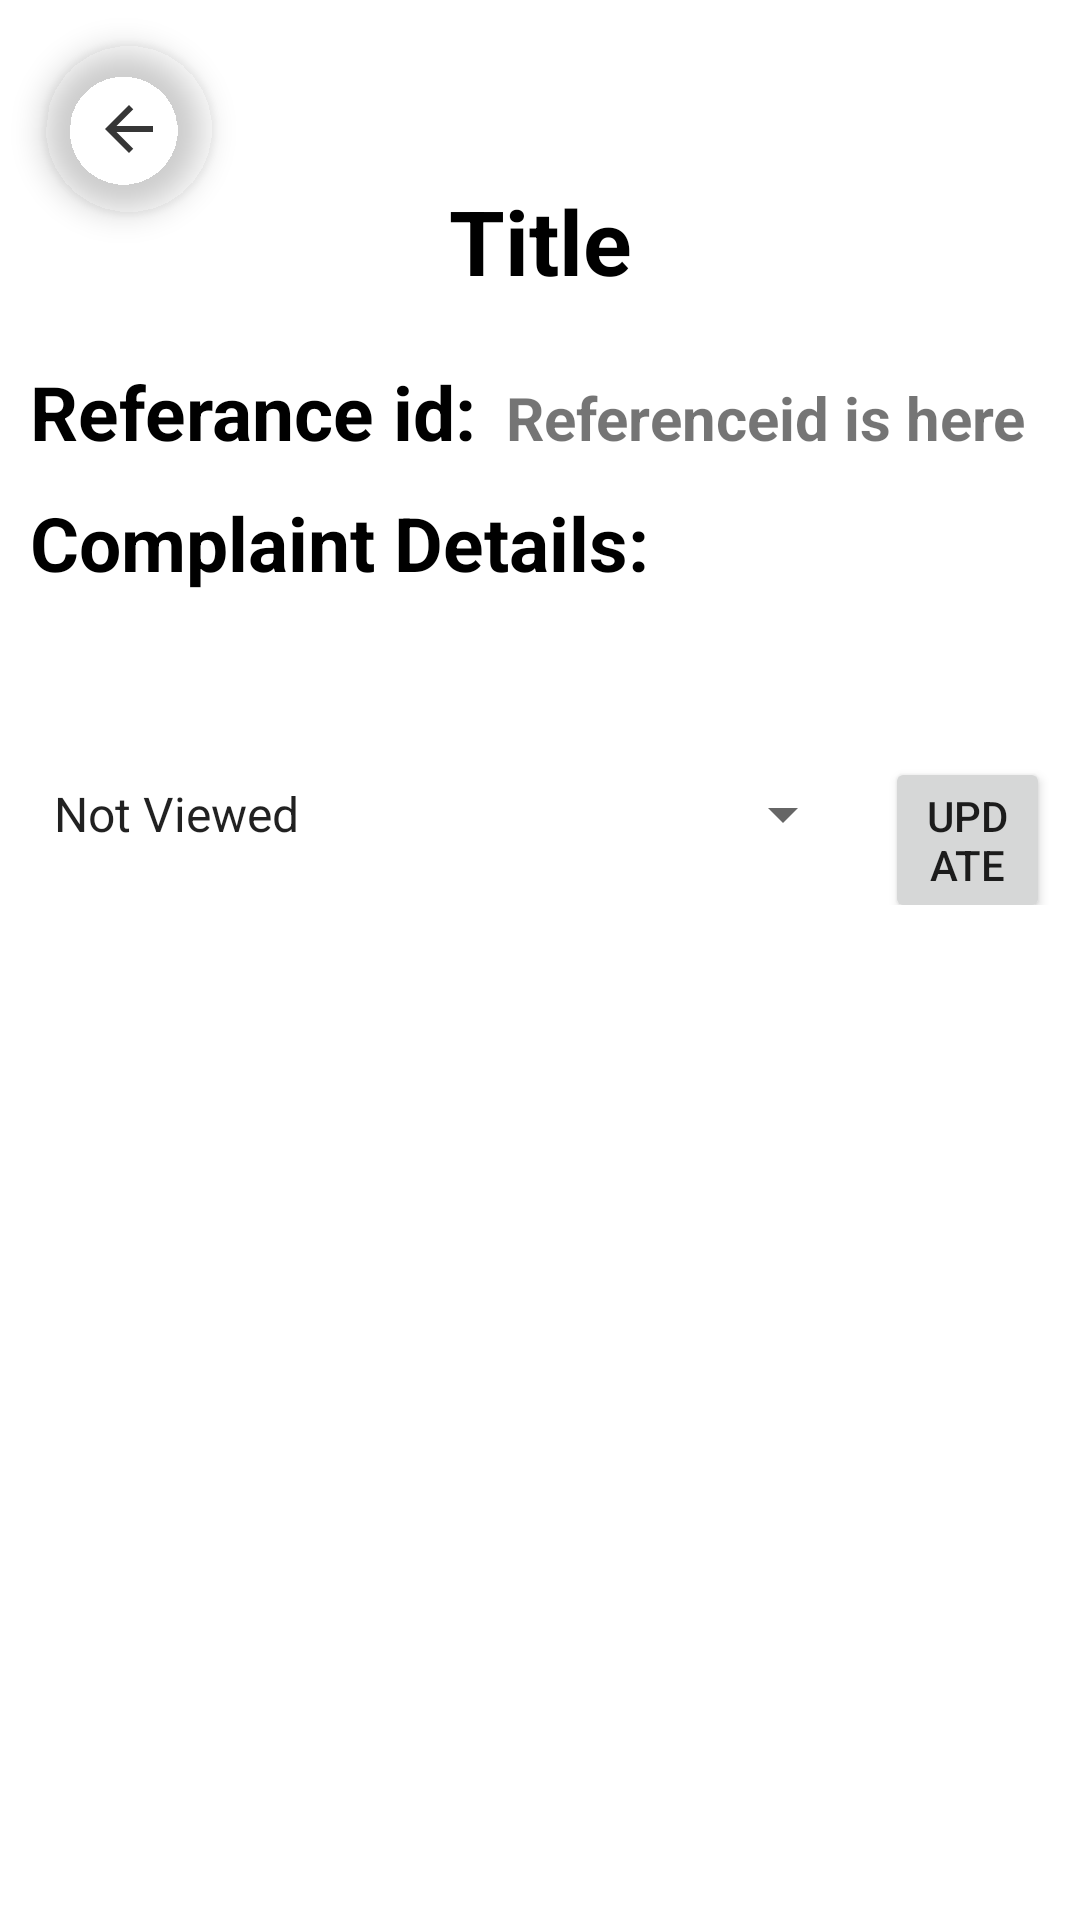

Icon bounding boxes for this 1080w x 1920h phone screenshot, format (x1, y1, x2, y2):
arrow back: (45, 47, 201, 213)
